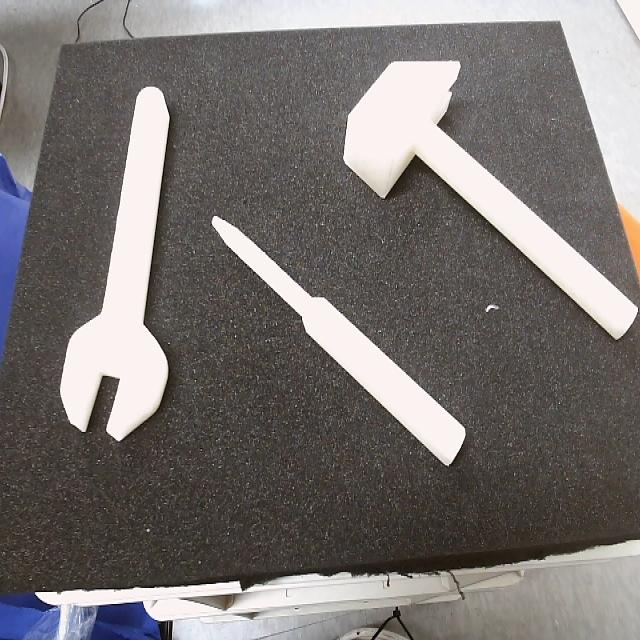Driver: (210, 217, 467, 468)
Hammer: (342, 61, 639, 341)
Spanner: (58, 87, 170, 444)
